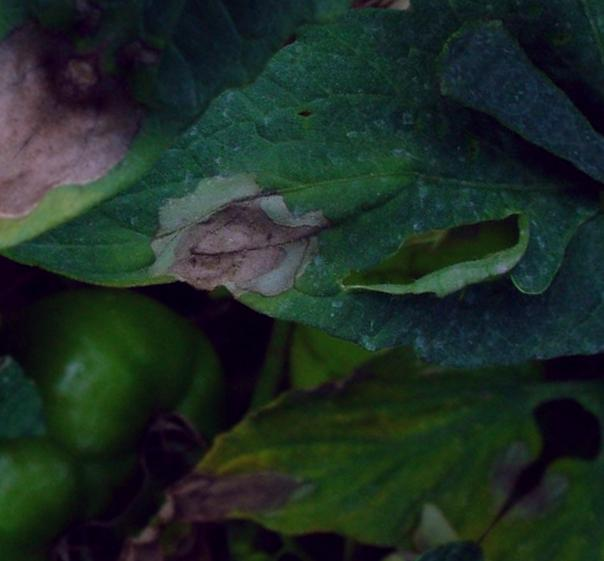Tomato leaf late blight: (46, 0, 604, 561)
